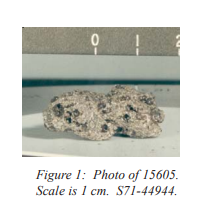Basalt: (40, 78, 176, 148)
